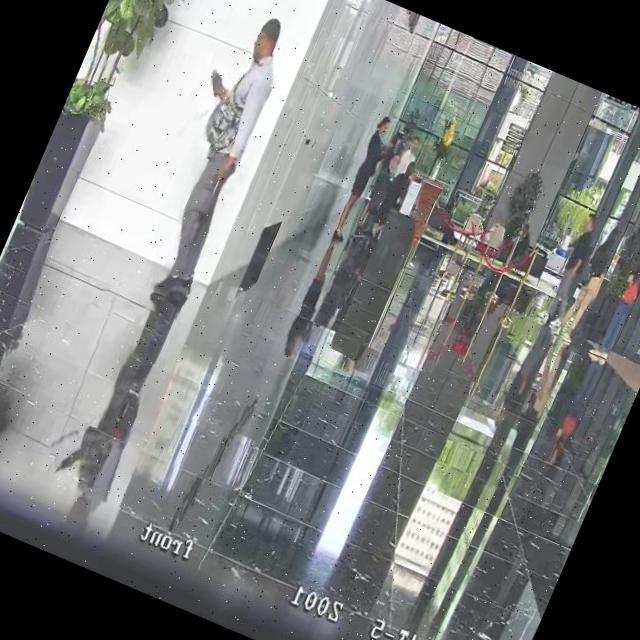person: (121, 4, 301, 312), (328, 114, 398, 244), (538, 210, 606, 334), (596, 244, 640, 356), (352, 146, 403, 235), (368, 154, 419, 240), (432, 188, 475, 248), (499, 220, 536, 274), (391, 134, 425, 182)
